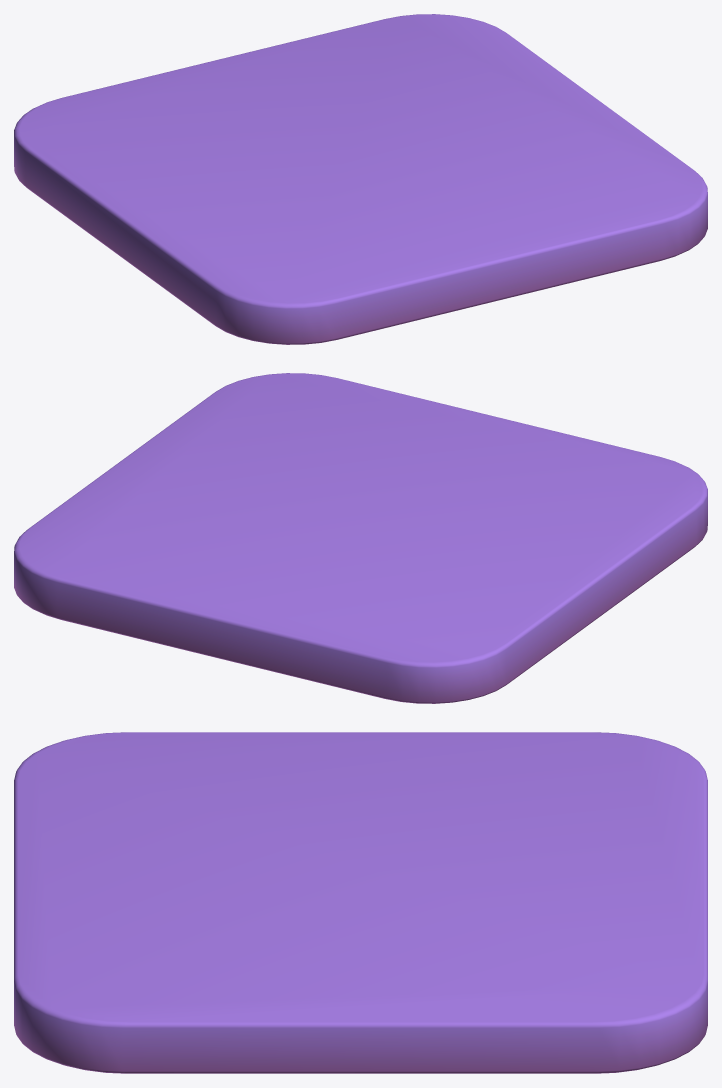
The model's file is platform-BG_-aveU.glb.
3 views of the same model, one above another, from view 1: azimuth 30°, elevation 25°; view 2: azimuth 150°, elevation 25°; view 3: azimuth 270°, elevation 25° (orthographic). The views are drawn at different scales.
Visible parts, largest first — view 1: Zplatform; view 2: Zplatform; view 3: Zplatform.
Part boxes in pixels (left/top/right/bottom): Zplatform: left=14, top=14, right=707, bottom=344; Zplatform: left=14, top=373, right=707, bottom=703; Zplatform: left=14, top=732, right=707, bottom=1073.
Bounding box in the file's own units: 9.08 × 0.7398 × 9.08.
Materials: 1 (1 with a texture image).
